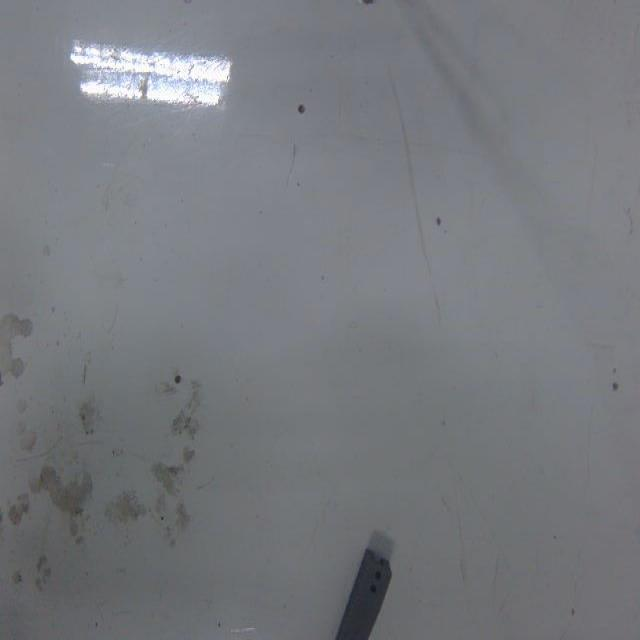grey: (336, 545, 395, 640)
